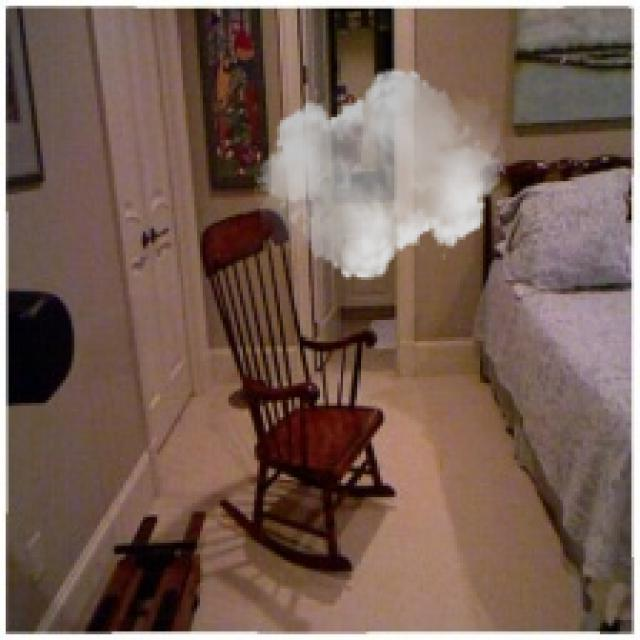smoke: (254, 60, 506, 289)
